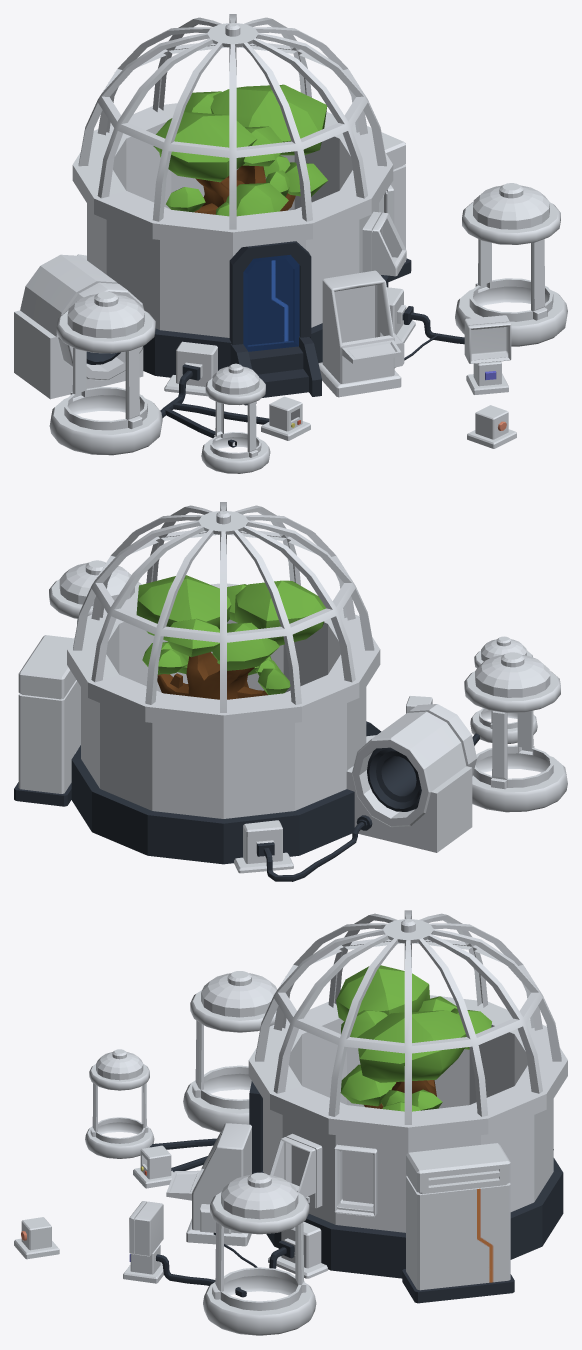
Rendered from mud_tatemono.fbx.
The picture shows the model from 3 angles, top to bottom: view 1: azimuth 30°, elevation 25°; view 2: azimuth 150°, elevation 25°; view 3: azimuth 270°, elevation 25°; orthographic projection. The views are drawn at different scales.
Visible parts, largest first — view 1: mud_tatemono; view 2: mud_tatemono; view 3: mud_tatemono.
Boxes of the visible parts, box(x1,y1,x2,y2) form: mud_tatemono: box(14, 14, 567, 473); mud_tatemono: box(14, 502, 567, 881); mud_tatemono: box(14, 910, 567, 1335).
Size of the model in its own units: 1220 by 673 by 1144.
Materials: 1 (1 with a texture image).
